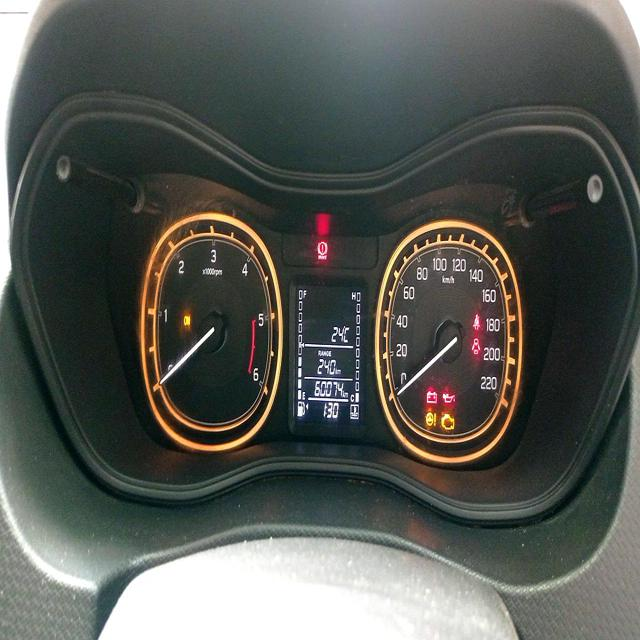odometer: (313, 378, 344, 398)
